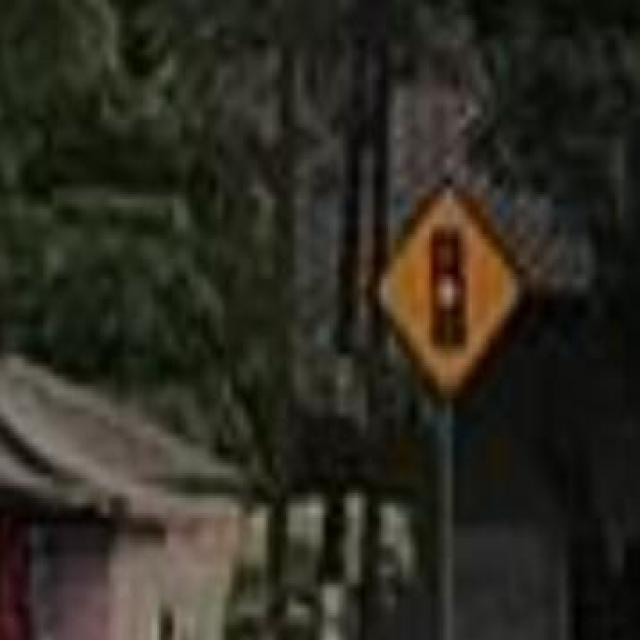traffic sign: (377, 189, 522, 386)
